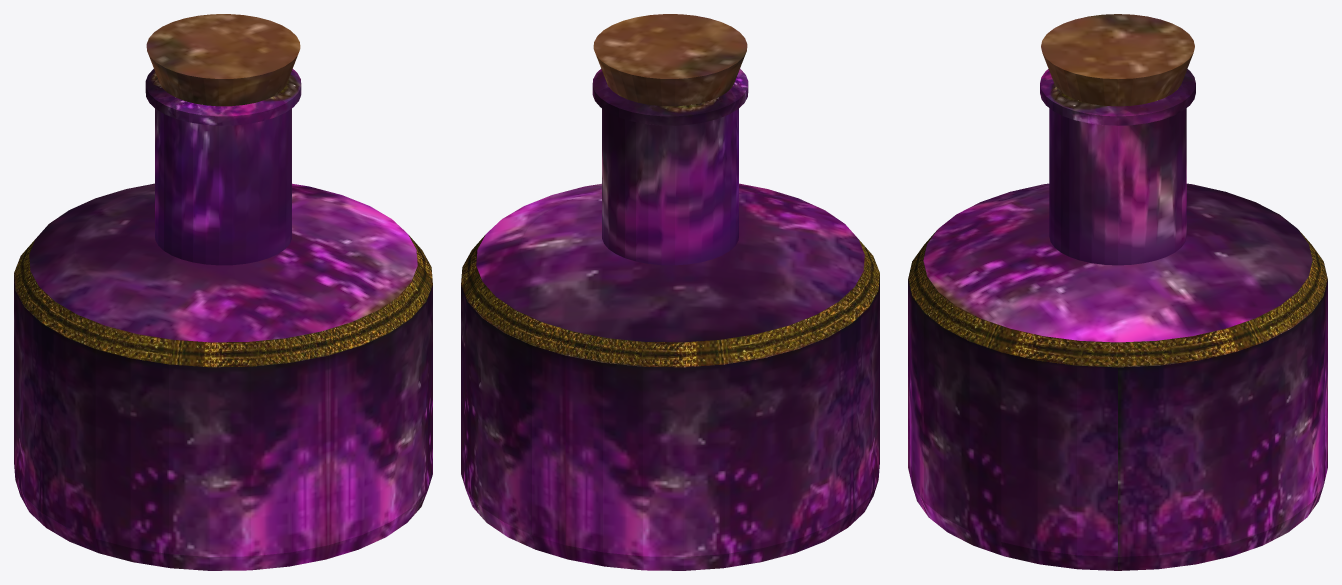
Rendered from BEERENLIKOER.glb.
The picture shows the model from 3 angles, left to right: view 1: azimuth 30°, elevation 25°; view 2: azimuth 150°, elevation 25°; view 3: azimuth 270°, elevation 25°; orthographic projection.
Visible parts, largest first — view 1: BEERENLIKOER; view 2: BEERENLIKOER; view 3: BEERENLIKOER.
Boxes of the visible parts, x1,y1,x2,y2 form: BEERENLIKOER: (14, 14, 432, 570); BEERENLIKOER: (461, 14, 879, 570); BEERENLIKOER: (908, 14, 1327, 570).
Size of the model in its own units: 0.265 by 0.305 by 0.265.
Materials: 2 (2 with a texture image).
